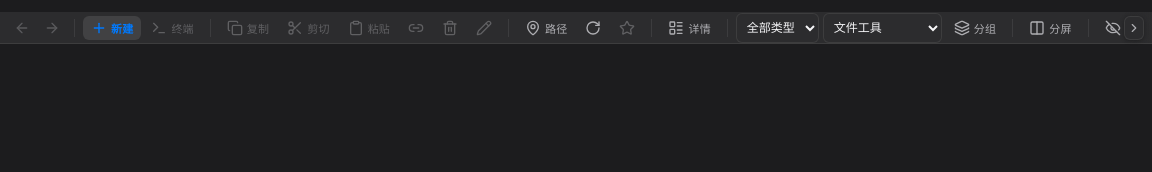
it: toolbar shortcut tooltips › shows both folder shortcuts and preserves the right-click hint
Hover over the element showing "新建": x=112, y=28 [83,16,141,40]
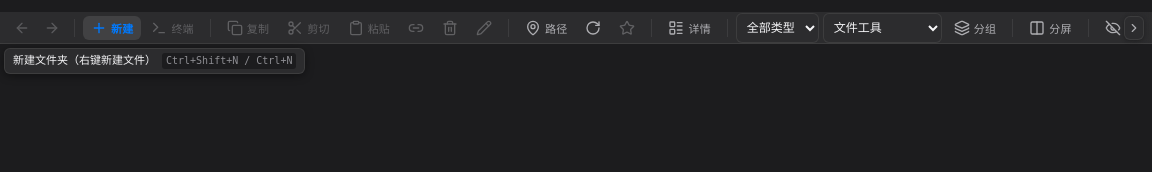
Check: the tooltip "新建文件夹（右键新建文件） Ctrl+Shift+N / Ctrl+N" is shown, box [4,48,305,74]
